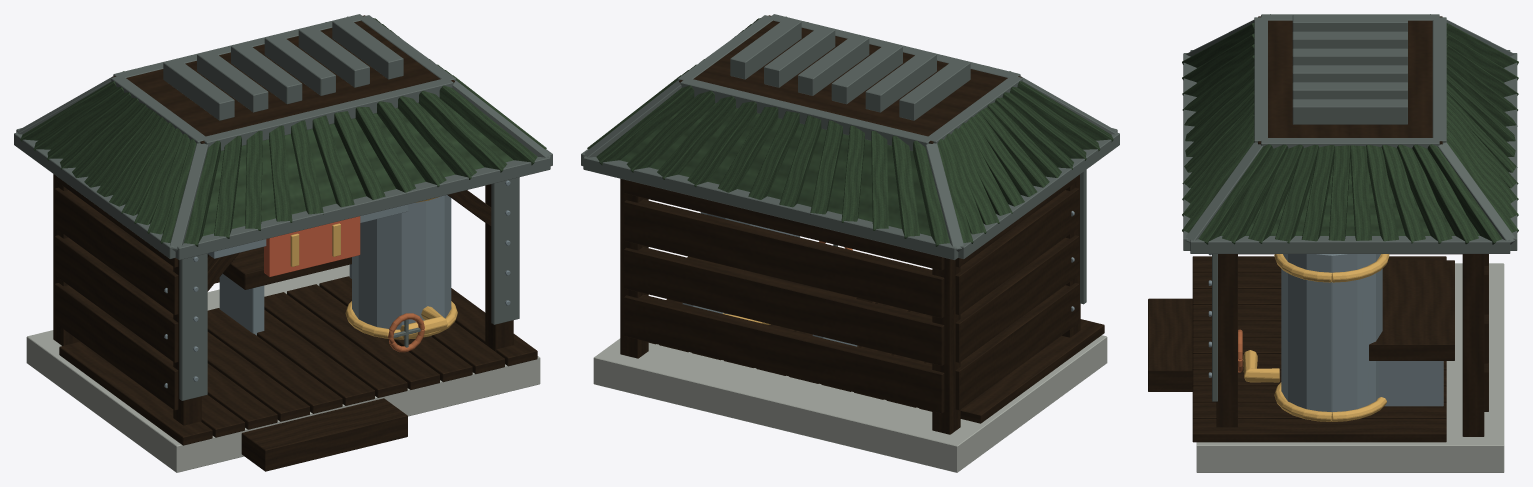
Rendered from WardenStation_Ironteeth.glb.
3 views of the same model, side by side, from view 1: azimuth 30°, elevation 25°; view 2: azimuth 150°, elevation 25°; view 3: azimuth 270°, elevation 25° (orthographic). The views are drawn at different scales.
Parts seen in each view (by area): view 1: Foundation, Water reservoir, Roof sheathing, Roof cap, Entry step, Roof iron edging, Side siding, Side siding.001, Side siding.002, Front platform board.006, Front platform board.004, Corner iron strap.001 (+61 smaller); view 2: Foundation, Back siding.002, Back siding, Back siding.001, Roof sheathing.002, Roof cap, Roof iron edging.002, Side siding, Side siding.001, Side siding.002, Back siding.003, Front platform board (+42 smaller); view 3: Foundation, Water reservoir, Work bench, Roof cap, Front platform board.010, Roof iron edging.001, Entry step, Steel post.003, Steel post.002, Roof vent slat.005, Bench leg.001, Roof sheathing.001 (+63 smaller).
Part boxes in pixels (x1,y1,x2,y2): Foundation: [26, 264, 540, 472]; Water reservoir: [352, 195, 451, 329]; Roof sheathing: [203, 99, 513, 235]; Roof cap: [112, 15, 454, 143]; Entry step: [241, 398, 407, 471]; Roof iron edging: [175, 156, 550, 260]; Side siding: [54, 283, 178, 410]; Side siding.001: [54, 235, 178, 362]; Side siding.002: [54, 187, 178, 314]; Front platform board.006: [264, 292, 407, 397]; Front platform board.004: [207, 308, 342, 413]; Corner iron strap.001: [491, 177, 519, 324]; Foundation: [593, 335, 1107, 472]; Back siding.002: [624, 199, 944, 318]; Back siding: [624, 294, 944, 413]; Back siding.001: [624, 247, 944, 365]; Roof sheathing.002: [620, 99, 930, 235]; Roof cap: [679, 15, 1021, 143]; Roof iron edging.002: [583, 156, 958, 260]; Side siding: [955, 283, 1079, 410]; Side siding.001: [955, 235, 1079, 362]; Side siding.002: [955, 187, 1079, 314]; Back siding.003: [624, 179, 944, 270]; Front platform board: [960, 319, 1104, 423]; Foundation: [1196, 263, 1504, 472]; Water reservoir: [1281, 254, 1382, 411]; Work bench: [1369, 260, 1454, 360]; Roof cap: [1258, 16, 1442, 144]; Front platform board.010: [1192, 419, 1446, 442]; Roof iron edging.001: [1190, 236, 1510, 253]; Entry step: [1148, 298, 1192, 391]; Steel post.003: [1462, 254, 1484, 436]; Steel post.002: [1216, 254, 1237, 427]; Roof vent slat.005: [1292, 99, 1407, 124]; Bench leg.001: [1378, 361, 1443, 406]; Roof sheathing.001: [1220, 159, 1479, 235].
Bounding box in the file's own units: 2.97 × 2.31 × 2.41.
8 materials, 2 textured.
